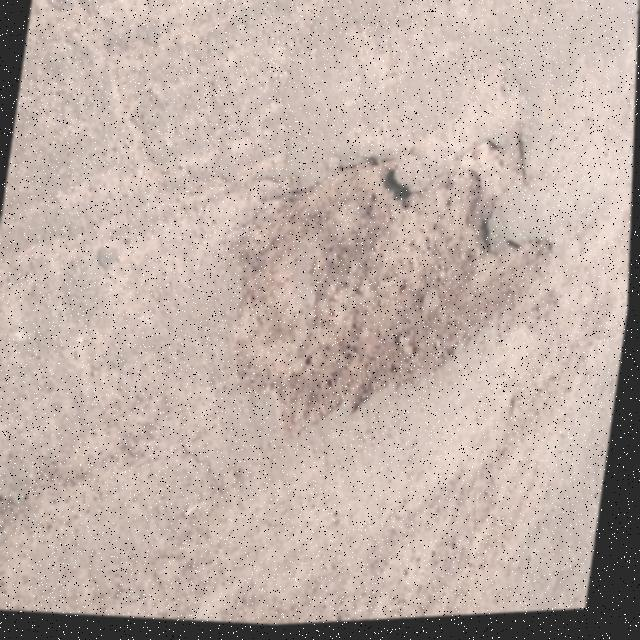pothole: (198, 105, 574, 472)
